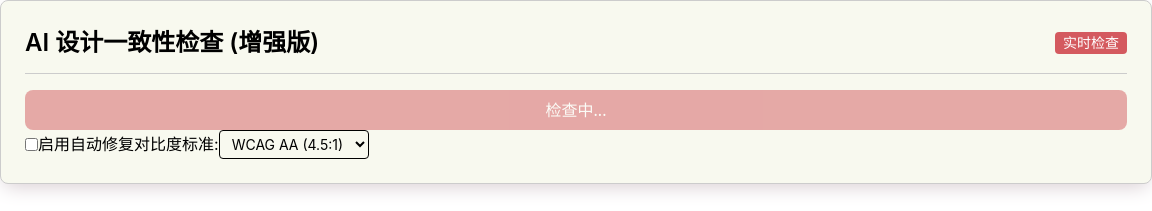
it: AIConsistencyCheckerEnhanced › 应该允许启用/禁用自动修复
Click the checkbox labelled "启用自动修复": (32, 144) [25,138,38,151]
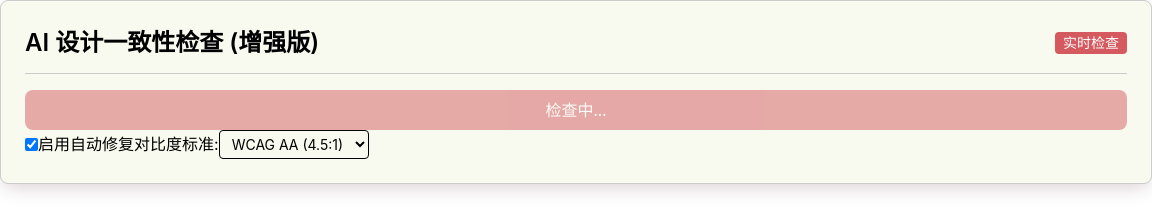
Expected: the checkbox labelled "启用自动修复" is checked, [25,138,38,151]
